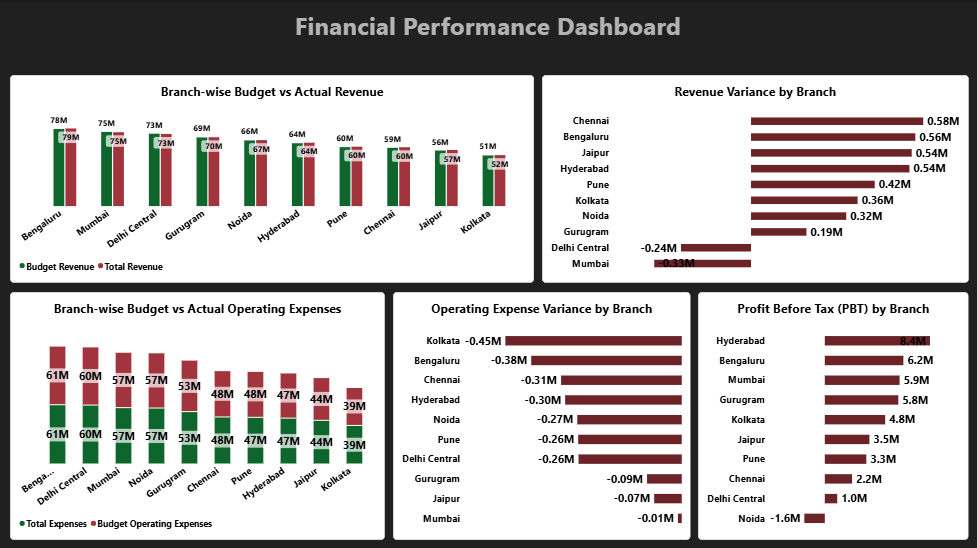

What the dashboard file says about the page in this screenshot:
{"tool":"powerbi","page":{"name":"Branch Performance","canvas":[1920,1080],"ordinal":1},"visuals":[{"type":"lineClusteredColumnComboChart","title":"Branch-wise Budget vs Actual Revenue","fields":{"Category":["branches.branch_name"],"Y":["budgets.Budget Revenue","transactions.Total Revenue"]},"box":[22,147.7,1029.3,407.8],"z":0},{"type":"clusteredBarChart","title":"Operating Expense Variance by Branch","fields":{"Category":["branches.branch_name"],"Y":["transactions.Operating Expense Variance"]},"box":[773.6,573.1,584.1,487.1],"z":1000},{"type":"lineStackedColumnComboChart","title":"Branch-wise Budget vs Actual Operating Expenses","fields":{"Category":["branches.branch_name"],"Y":["transactions.Total Expenses","budgets.Budget Operating Expenses"]},"box":[22,573.1,736.2,487.1],"z":2000},{"type":"clusteredBarChart","title":"Revenue Variance by Branch","fields":{"Category":["branches.branch_name"],"Y":["transactions.Revenue Variance"]},"box":[1066.8,147.7,837.6,407.8],"z":3000},{"type":"clusteredBarChart","title":"Profit Before Tax (PBT) by Branch","fields":{"Category":["branches.branch_name"],"Y":["transactions.Branch PBT"]},"box":[1373.1,573.1,531.2,487.1],"z":4000},{"type":"textbox","title":"Financial Performance Dashboard","box":[347.3,17.6,1225.5,101.4],"z":5002}]}

Visuals, with their boxes in screenshot pixels (x1, y1, x2, y2), scaled from the page's 1920x1080 canvas onto the 978x548 screenshot:
"Branch-wise Budget vs Actual Revenue" lineClusteredColumnComboChart: left=11, top=75, right=536, bottom=282
"Operating Expense Variance by Branch" clusteredBarChart: left=394, top=291, right=692, bottom=538
"Branch-wise Budget vs Actual Operating Expenses" lineStackedColumnComboChart: left=11, top=291, right=386, bottom=538
"Revenue Variance by Branch" clusteredBarChart: left=543, top=75, right=970, bottom=282
"Profit Before Tax (PBT) by Branch" clusteredBarChart: left=699, top=291, right=970, bottom=538
"Financial Performance Dashboard" textbox: left=177, top=9, right=801, bottom=60
